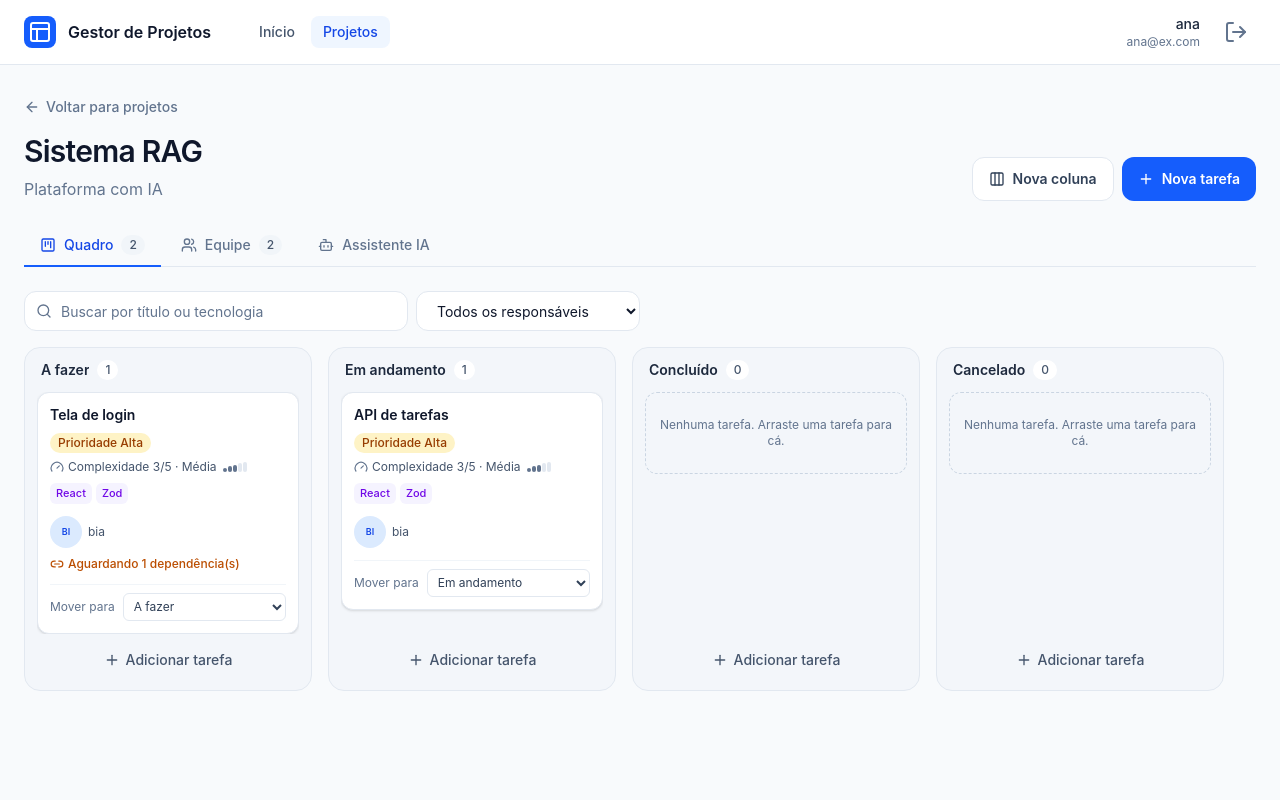
Test: ProjectBoardPage — detalhes da tarefa › exibe detalhes, dependências, comentários e histórico indisponível
The image size is (1280, 800).
Click the button "Tela de login".
click(93, 415)  # box [50, 405, 135, 425]
(page scrolled)
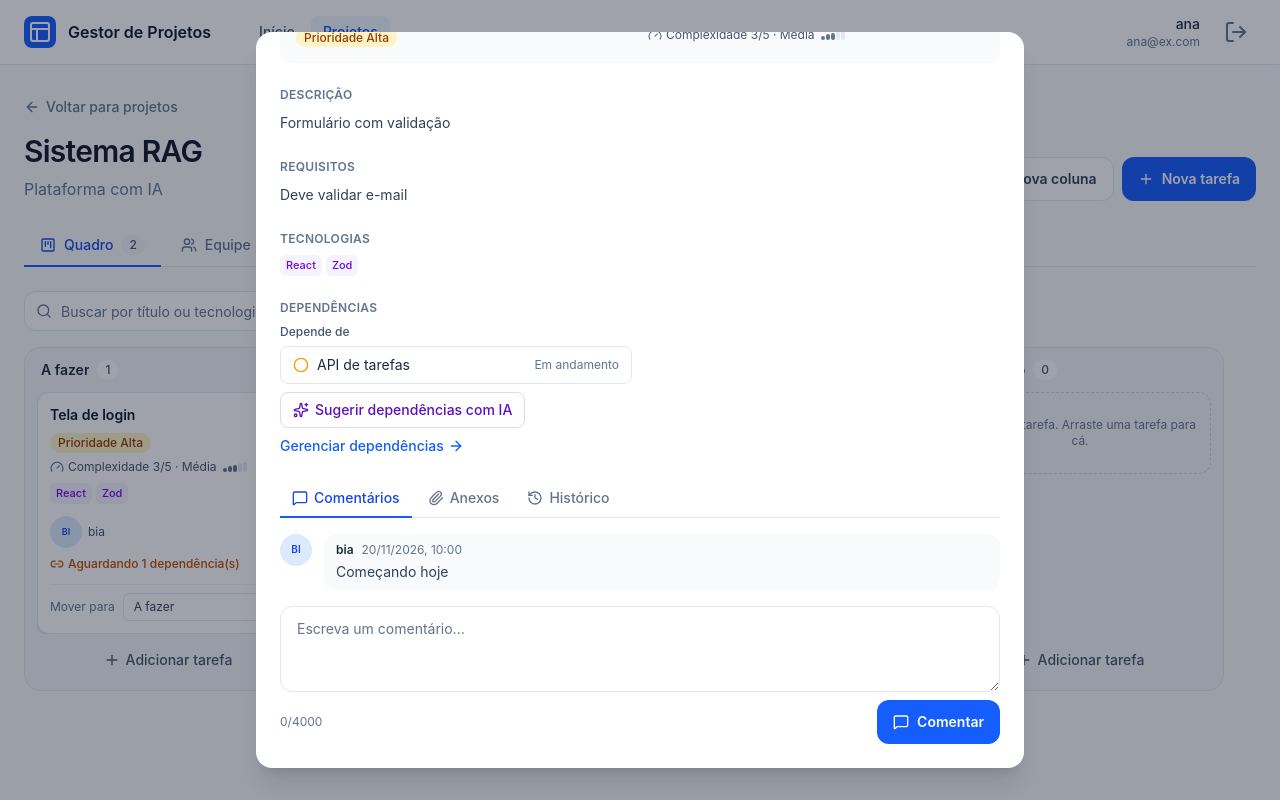
Check: the text "Deve validar e-mail" is shown, box [280, 186, 407, 203]
Check: the text "API de tarefas" is shown, box [317, 356, 410, 372]
Check: the text "Começando hoje" is shown, box [336, 562, 448, 580]
Click the button "Comentar".
click(939, 722)  # box [877, 700, 1000, 744]
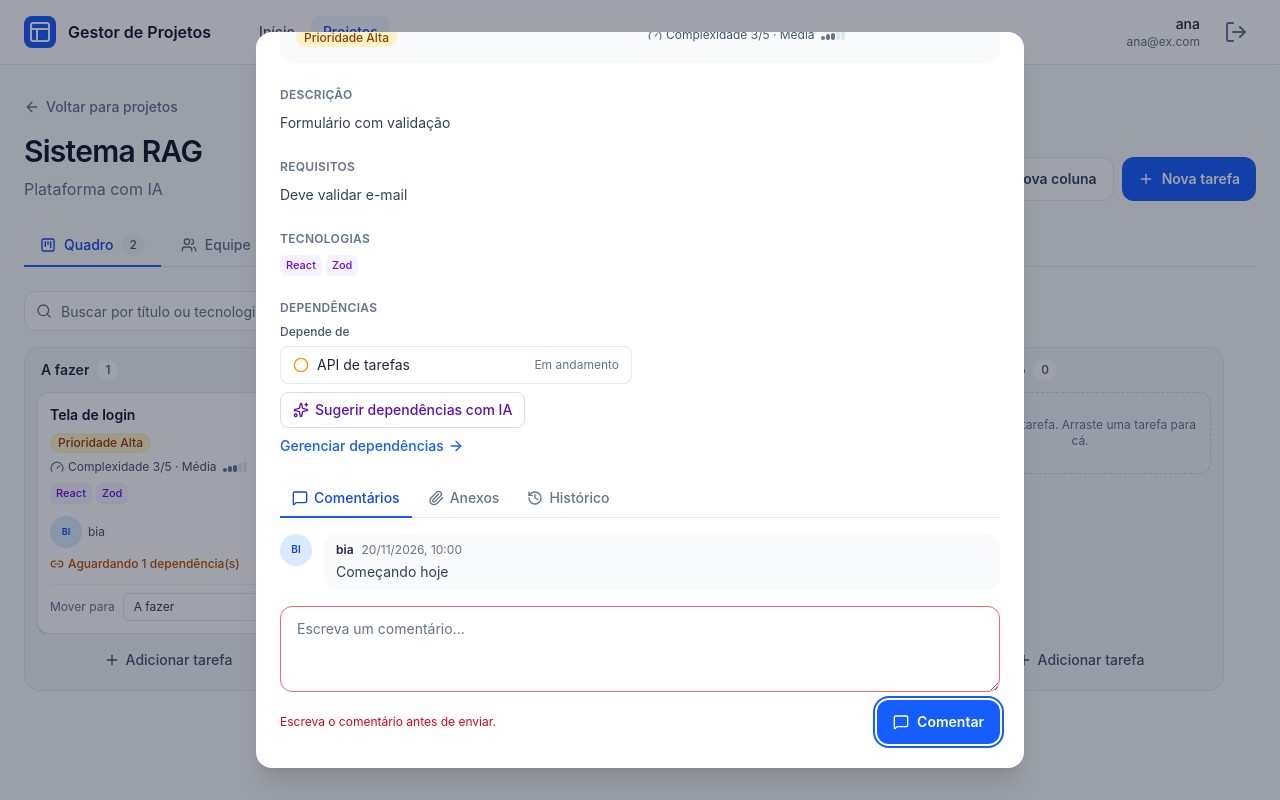
Check: the text "Escreva o comentário antes de enviar." is shown, box [280, 714, 496, 730]
Type "Ótimo!" into the text box named "Novo comentário".
click(640, 648); type("Ótimo!")  # box [280, 606, 1000, 692]
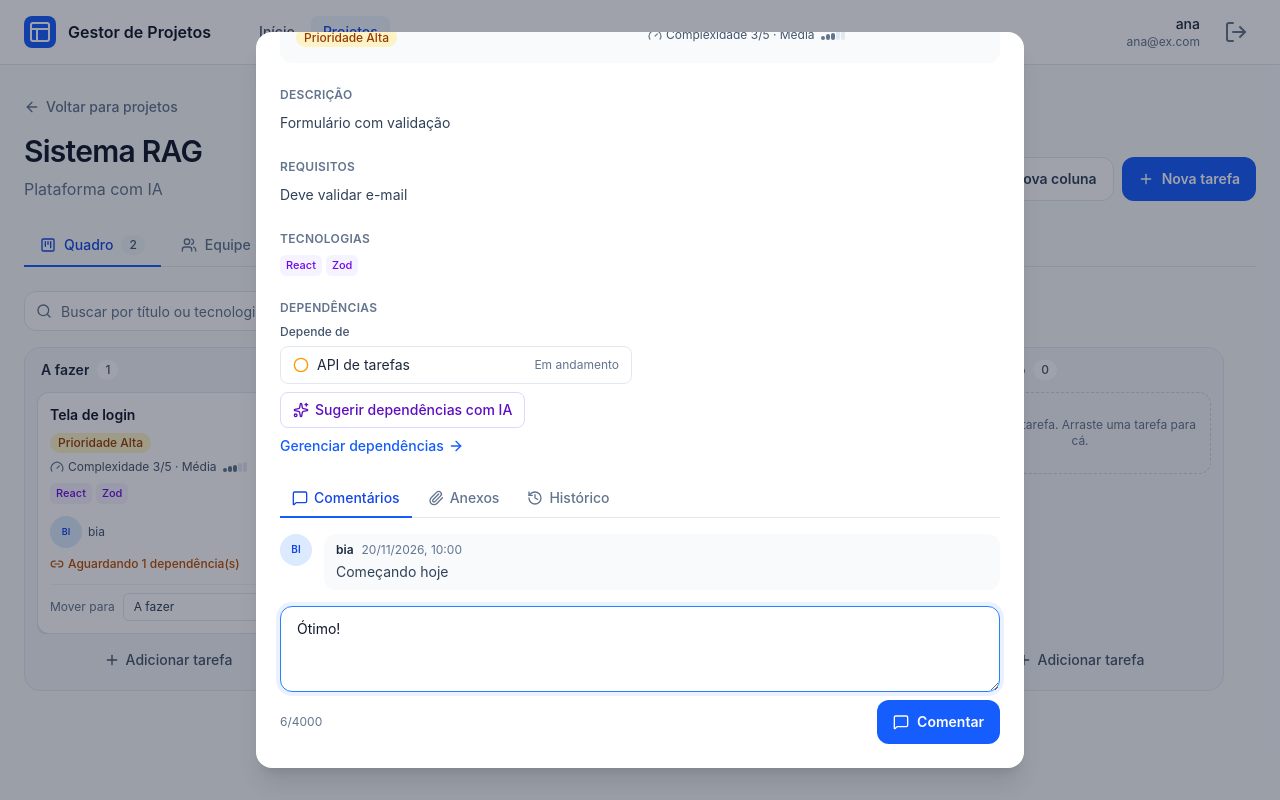
Click the button "Comentar".
click(939, 722)  # box [877, 700, 1000, 744]
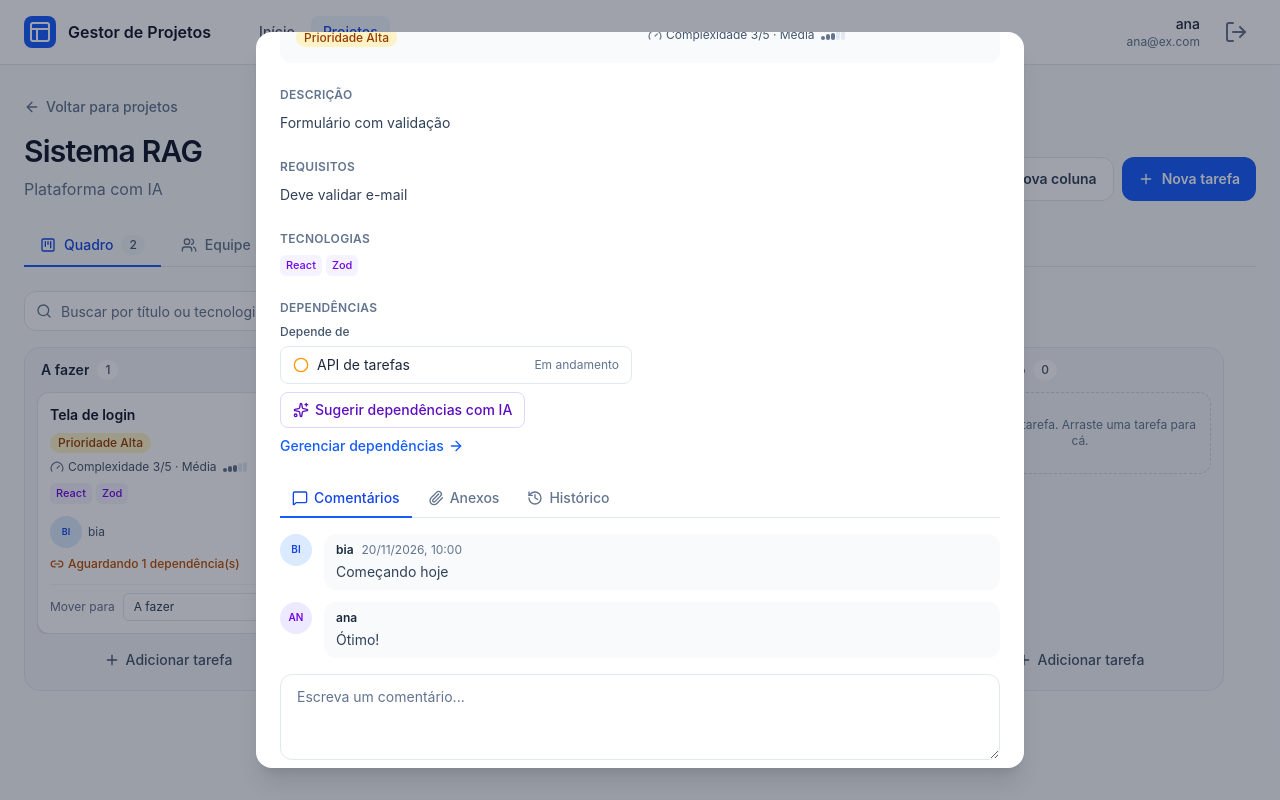
Check: the text "Ótimo!" is shown, box [336, 630, 379, 648]
Click the tab "Histórico".
click(568, 498)  # box [515, 480, 622, 518]
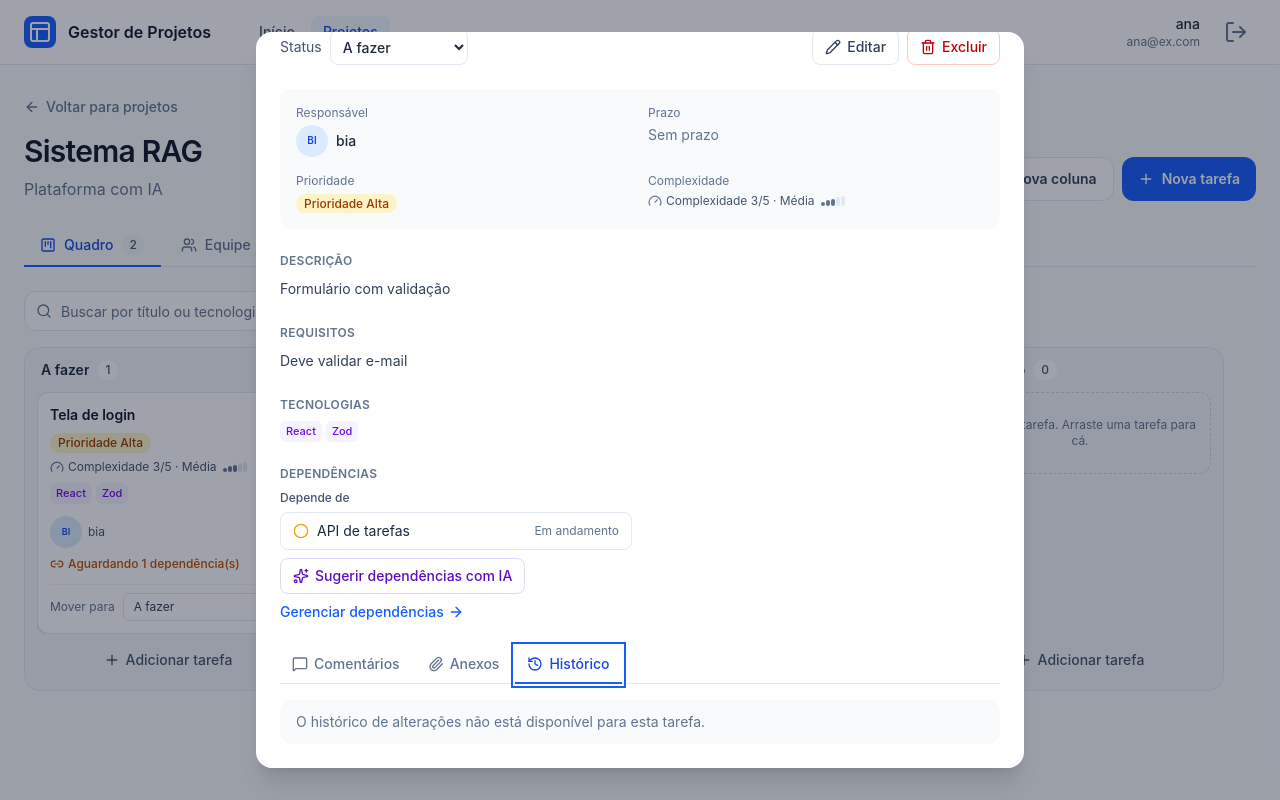
Check: the text "histórico de alterações não está disponível" is shown, box [296, 712, 705, 730]
